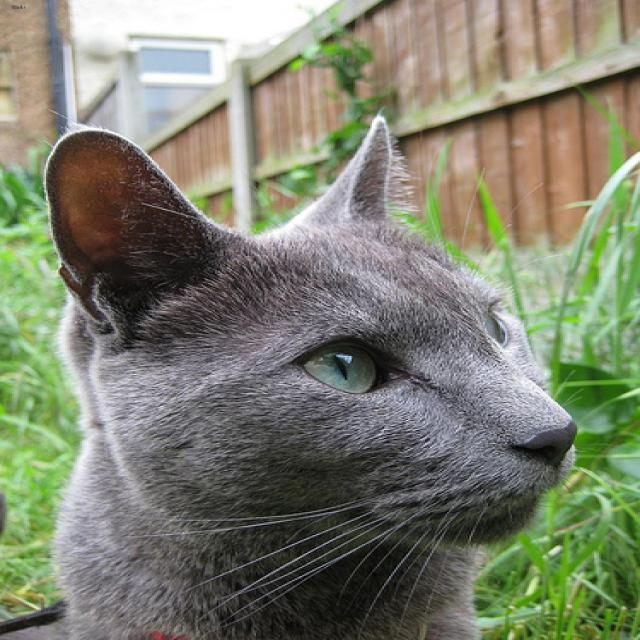Russian_Blue: (24, 116, 588, 558)
